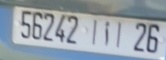2: (134, 21, 148, 52), (66, 14, 79, 43), (43, 12, 55, 41)
4: (54, 13, 67, 42)
5: (21, 9, 31, 39)
6: (147, 24, 162, 52), (32, 12, 43, 40)
a: (103, 18, 111, 47)
